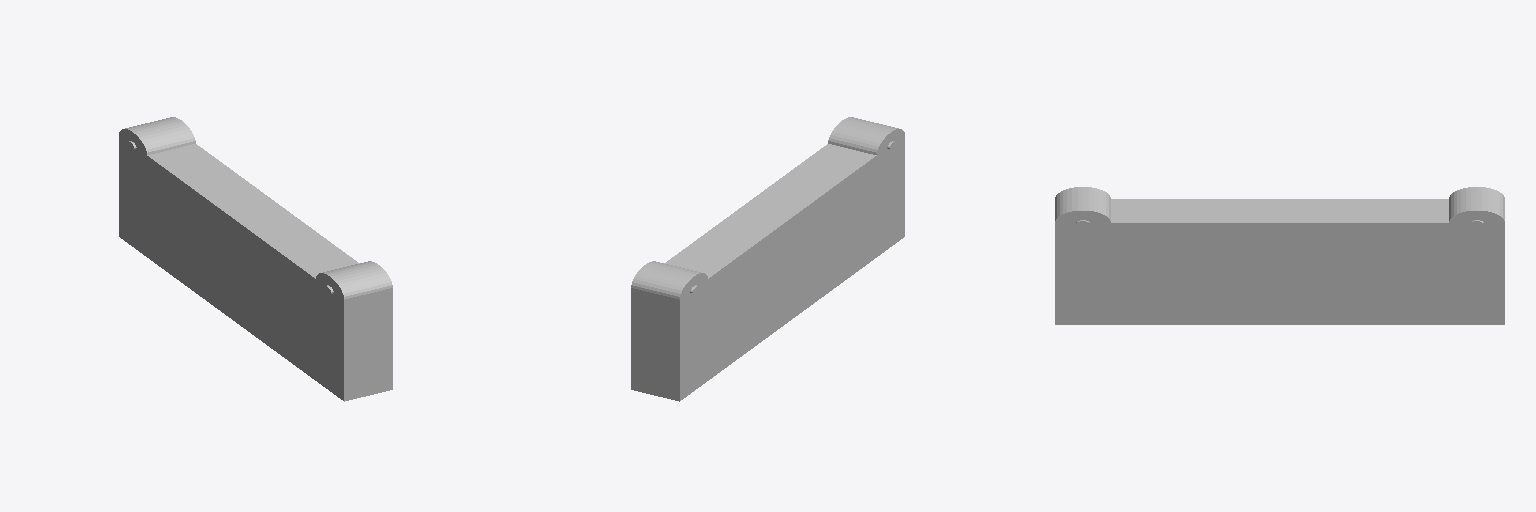
Rendered from body_palm_lpinvrpin.obj.
3 views of the same model, side by side, from view 1: azimuth 30°, elevation 25°; view 2: azimuth 150°, elevation 25°; view 3: azimuth 270°, elevation 25° (orthographic).
Visible parts, largest first — view 1: body_palm_lpinvrpin.001_Cube.032, body_palm_lpinvrpin_Cylinder.023, right_joint_Cylinder.024; view 2: body_palm_lpinvrpin.001_Cube.032, right_joint_Cylinder.024, body_palm_lpinvrpin_Cylinder.023; view 3: body_palm_lpinvrpin.001_Cube.032, body_palm_lpinvrpin_Cylinder.023, right_joint_Cylinder.024.
Part boxes in pixels (bbox=[...]): body_palm_lpinvrpin.001_Cube.032: bbox=[119, 135, 392, 401]; body_palm_lpinvrpin_Cylinder.023: bbox=[316, 261, 392, 299]; right_joint_Cylinder.024: bbox=[119, 117, 195, 154]; body_palm_lpinvrpin.001_Cube.032: bbox=[631, 135, 904, 401]; right_joint_Cylinder.024: bbox=[631, 261, 707, 299]; body_palm_lpinvrpin_Cylinder.023: bbox=[828, 117, 904, 154]; body_palm_lpinvrpin.001_Cube.032: bbox=[1055, 199, 1504, 324]; body_palm_lpinvrpin_Cylinder.023: bbox=[1055, 187, 1110, 227]; right_joint_Cylinder.024: bbox=[1449, 187, 1504, 227].
Size of the model in its own units: 0.022 by 0.045 by 0.16.